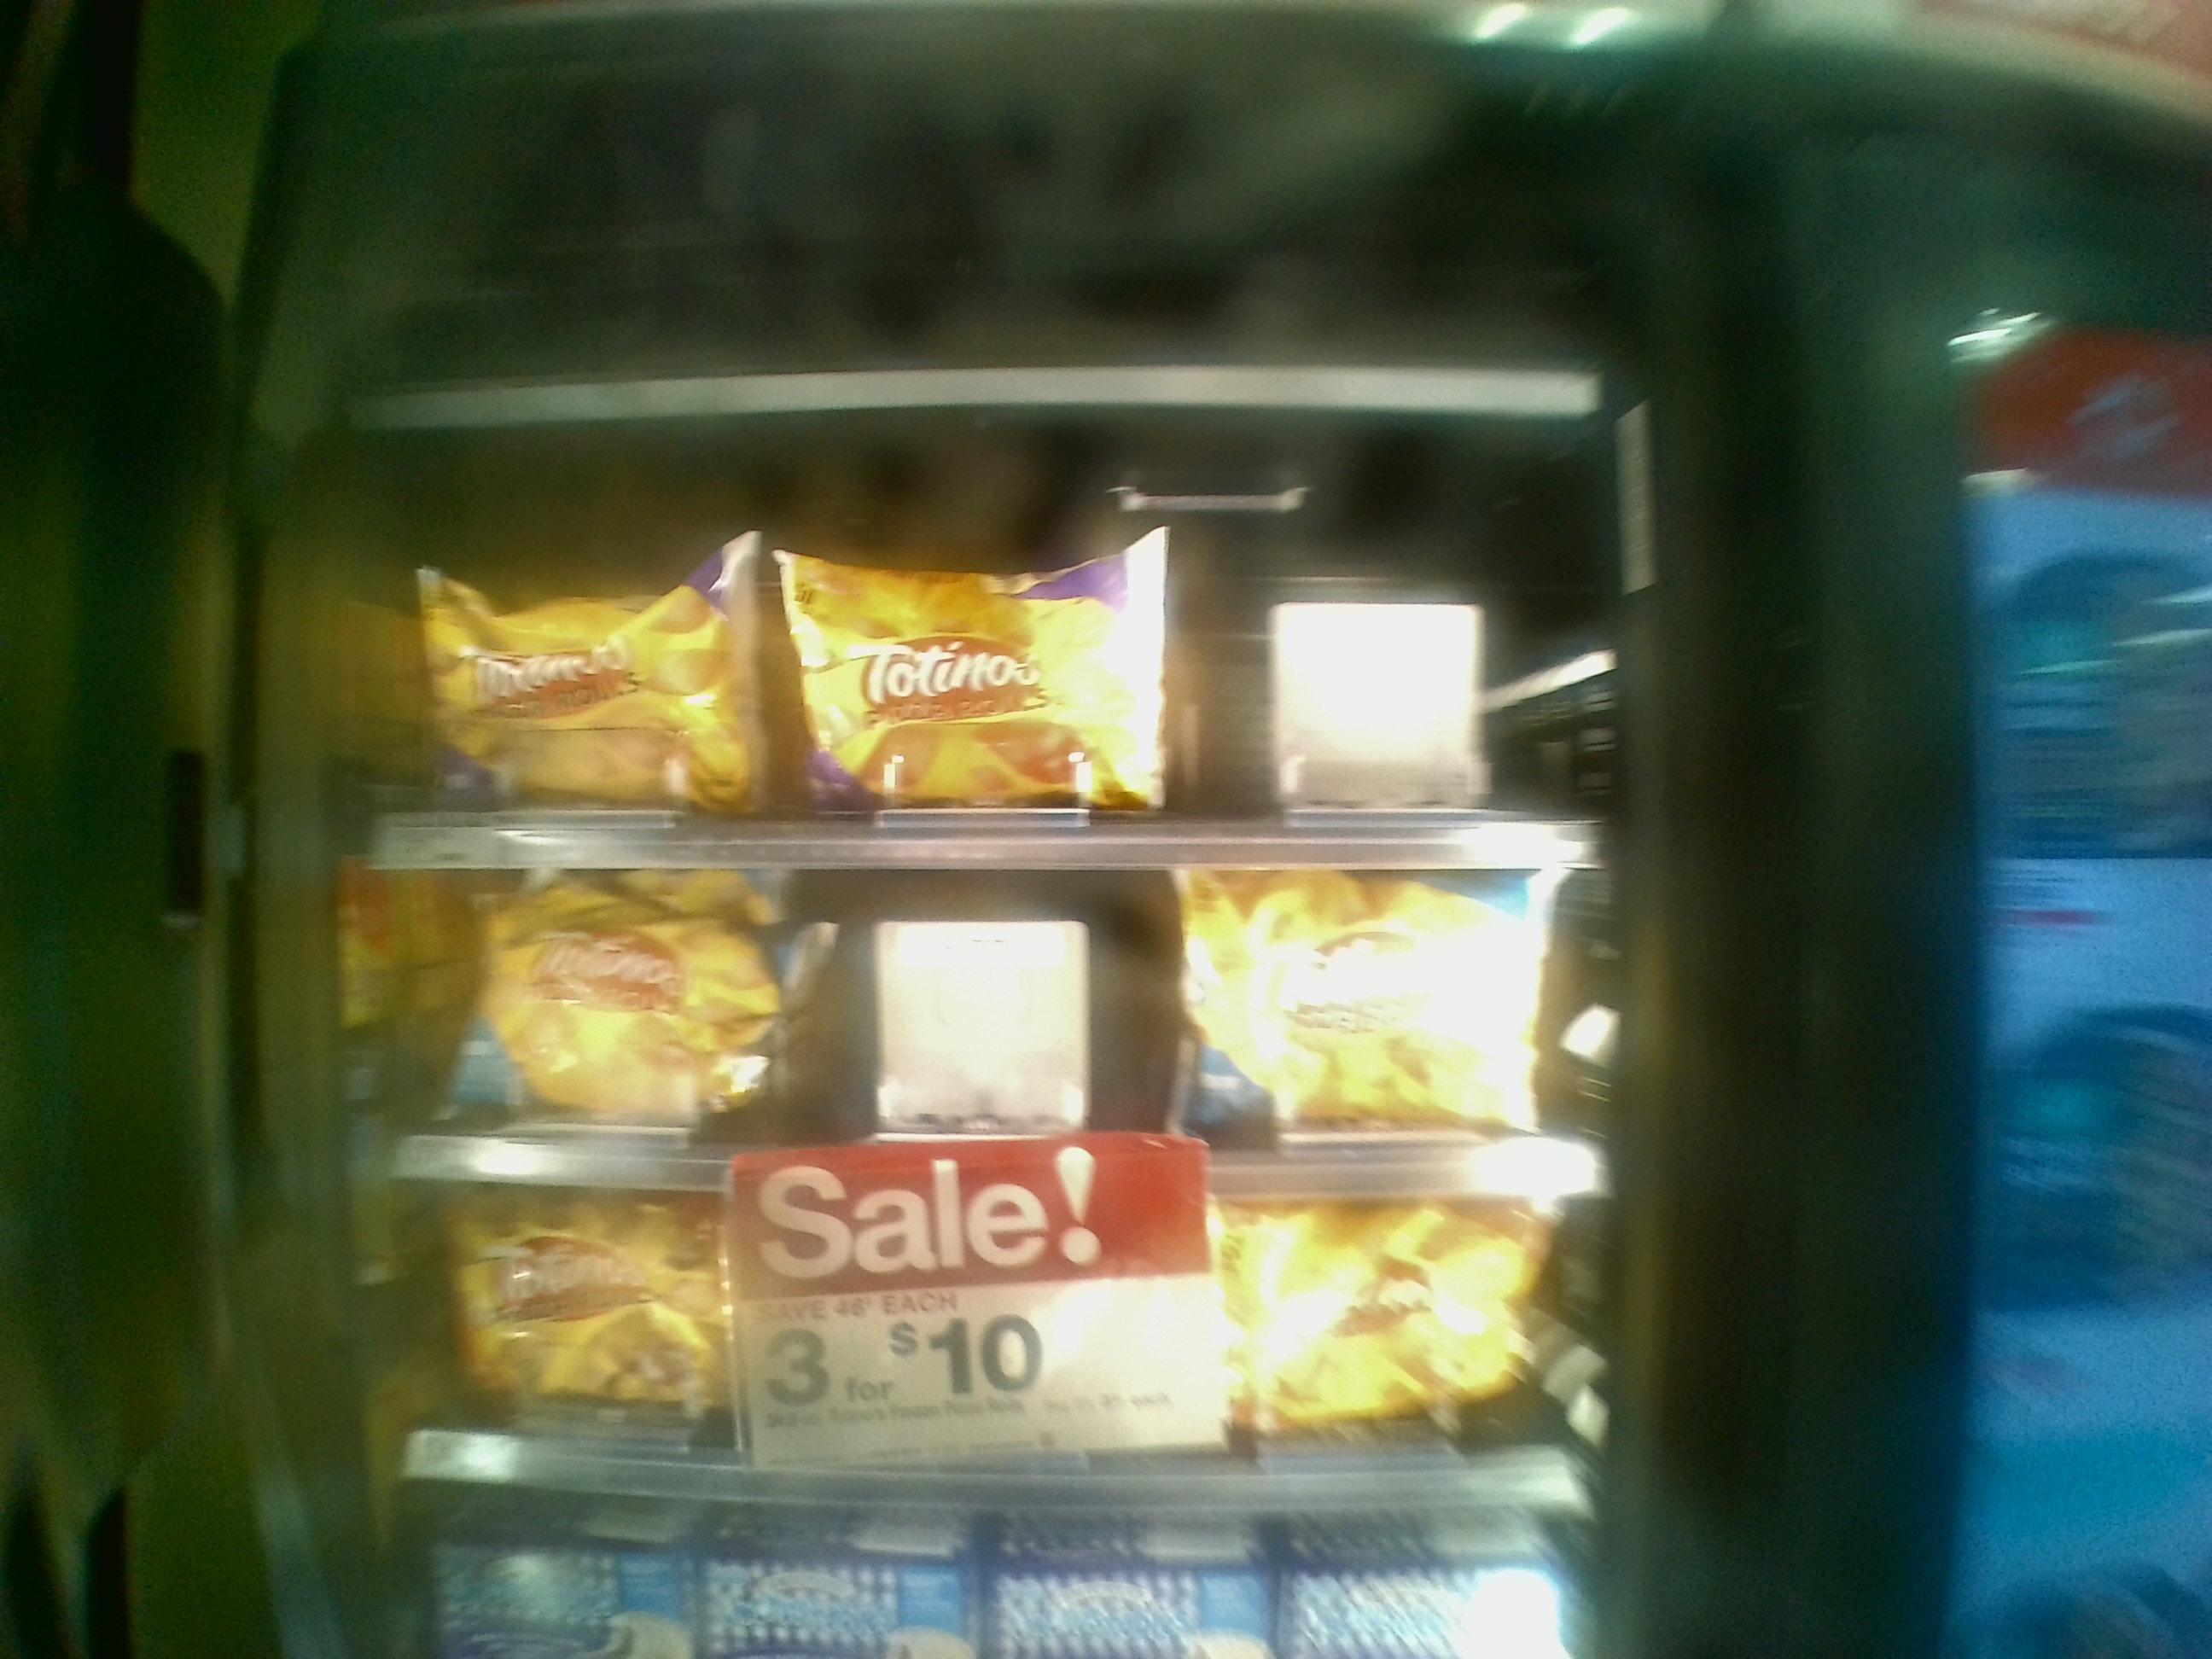shelf: (371, 871, 1622, 1208)
